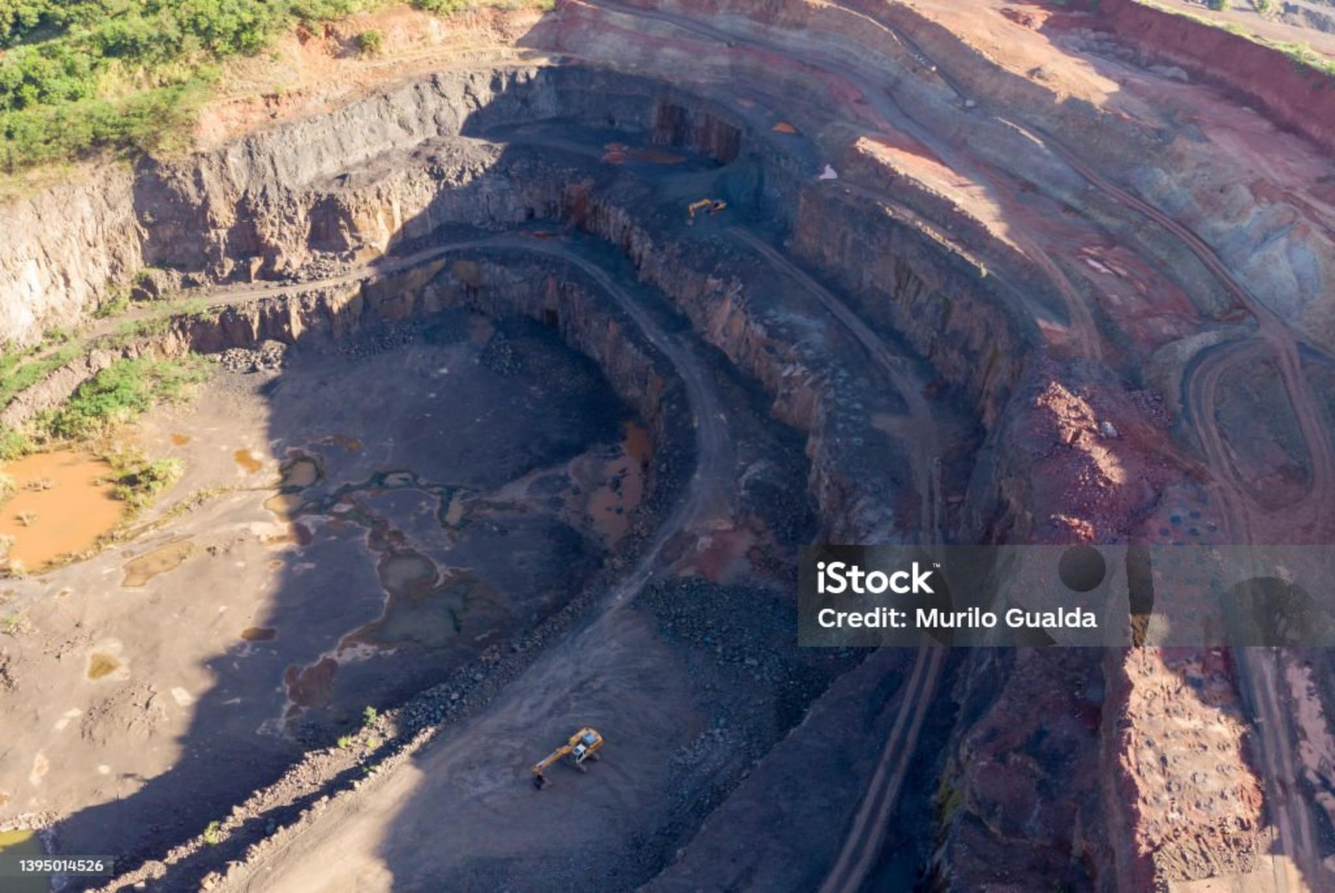benches: (536, 0, 1334, 546), (256, 574, 729, 892), (441, 237, 733, 618), (731, 227, 941, 542), (819, 648, 943, 892), (1235, 647, 1334, 892)
excavator: (528, 717, 611, 797), (683, 193, 741, 220)
wall: (330, 254, 694, 450), (791, 183, 1040, 426)
